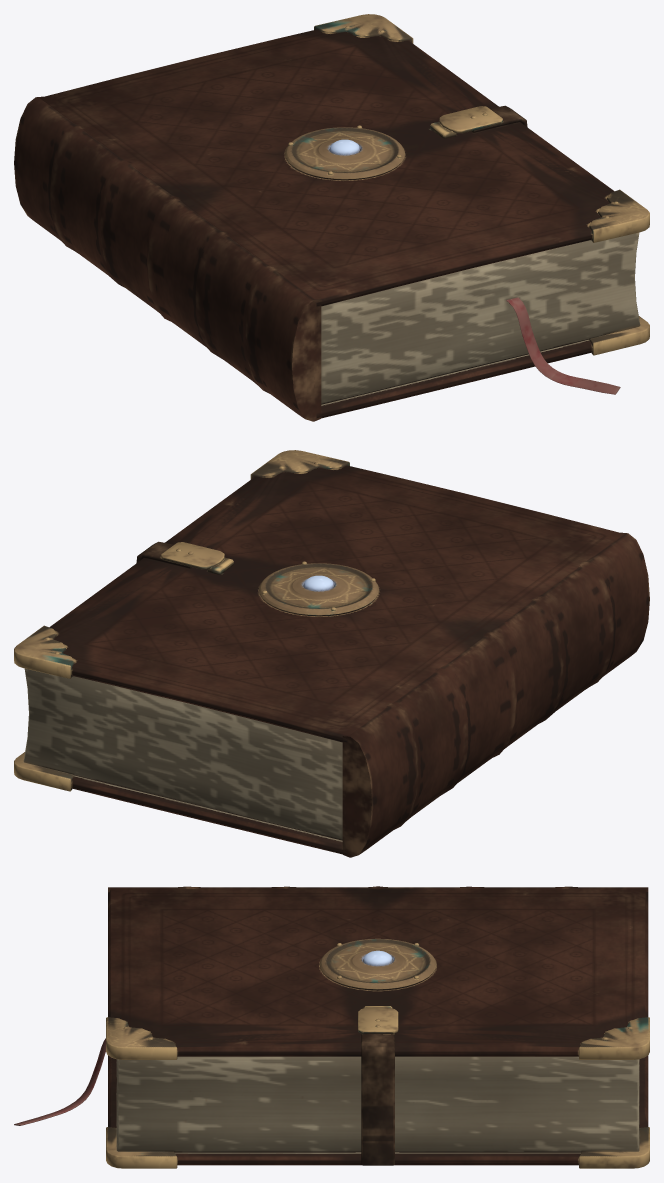
The model's file is SM_Grimoire.glb.
The picture shows the model from 3 angles, top to bottom: view 1: azimuth 30°, elevation 25°; view 2: azimuth 150°, elevation 25°; view 3: azimuth 270°, elevation 25°; orthographic projection. The views are drawn at different scales.
Parts seen in each view (by area): view 1: SM_Grimoire; view 2: SM_Grimoire; view 3: SM_Grimoire.
Boxes of the visible parts, <box> form: SM_Grimoire: <box>14,14,649,421</box>; SM_Grimoire: <box>14,450,649,857</box>; SM_Grimoire: <box>14,886,649,1168</box>.
Size of the model in its own units: 0.1861 by 0.0662 by 0.2837.
Materials: 1 (1 with a texture image).
